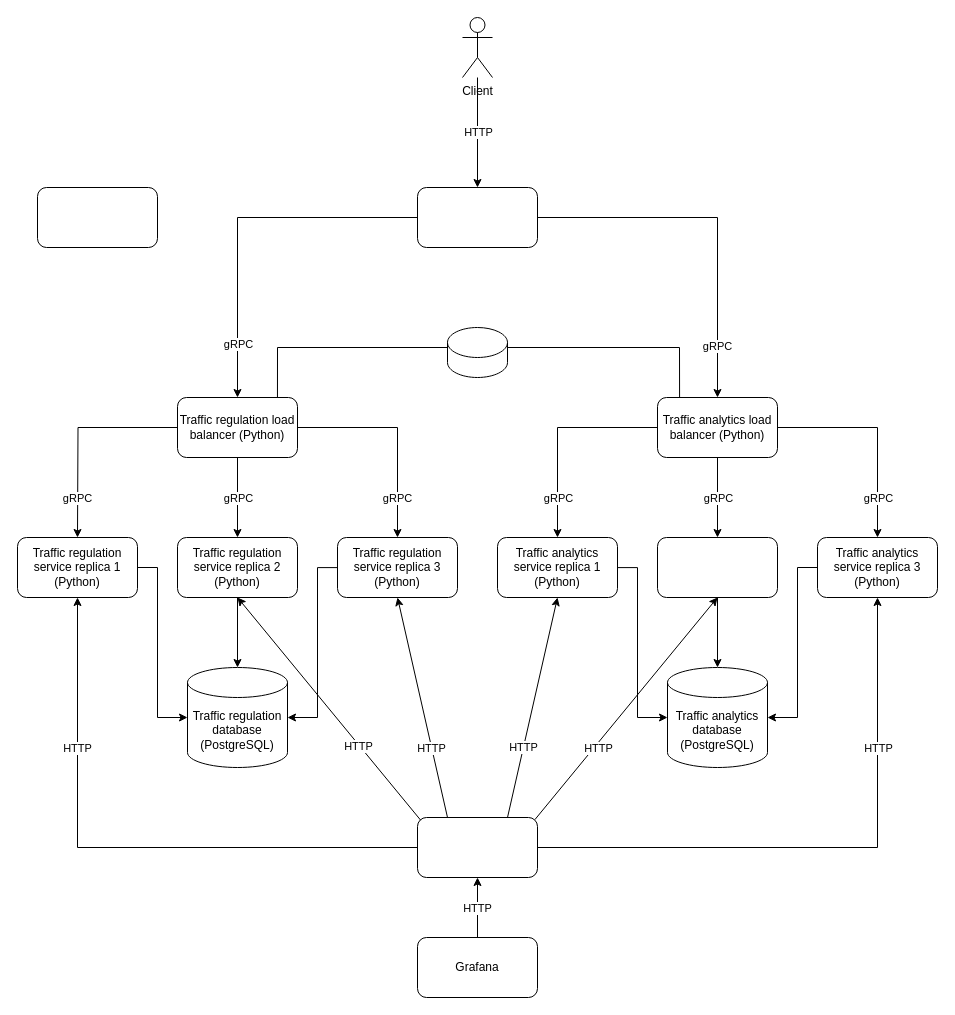
Image size: 955x1015. Some labels were removed from this diagram. Each missing label, with the centre of its shape:
Cache: [477,352]
Gateway (Go): [477,217]
Prometheus: [477,847]
Service Discovery (Go): [97,217]
Traffic analytics service replica 2 (Python): [717,567]
